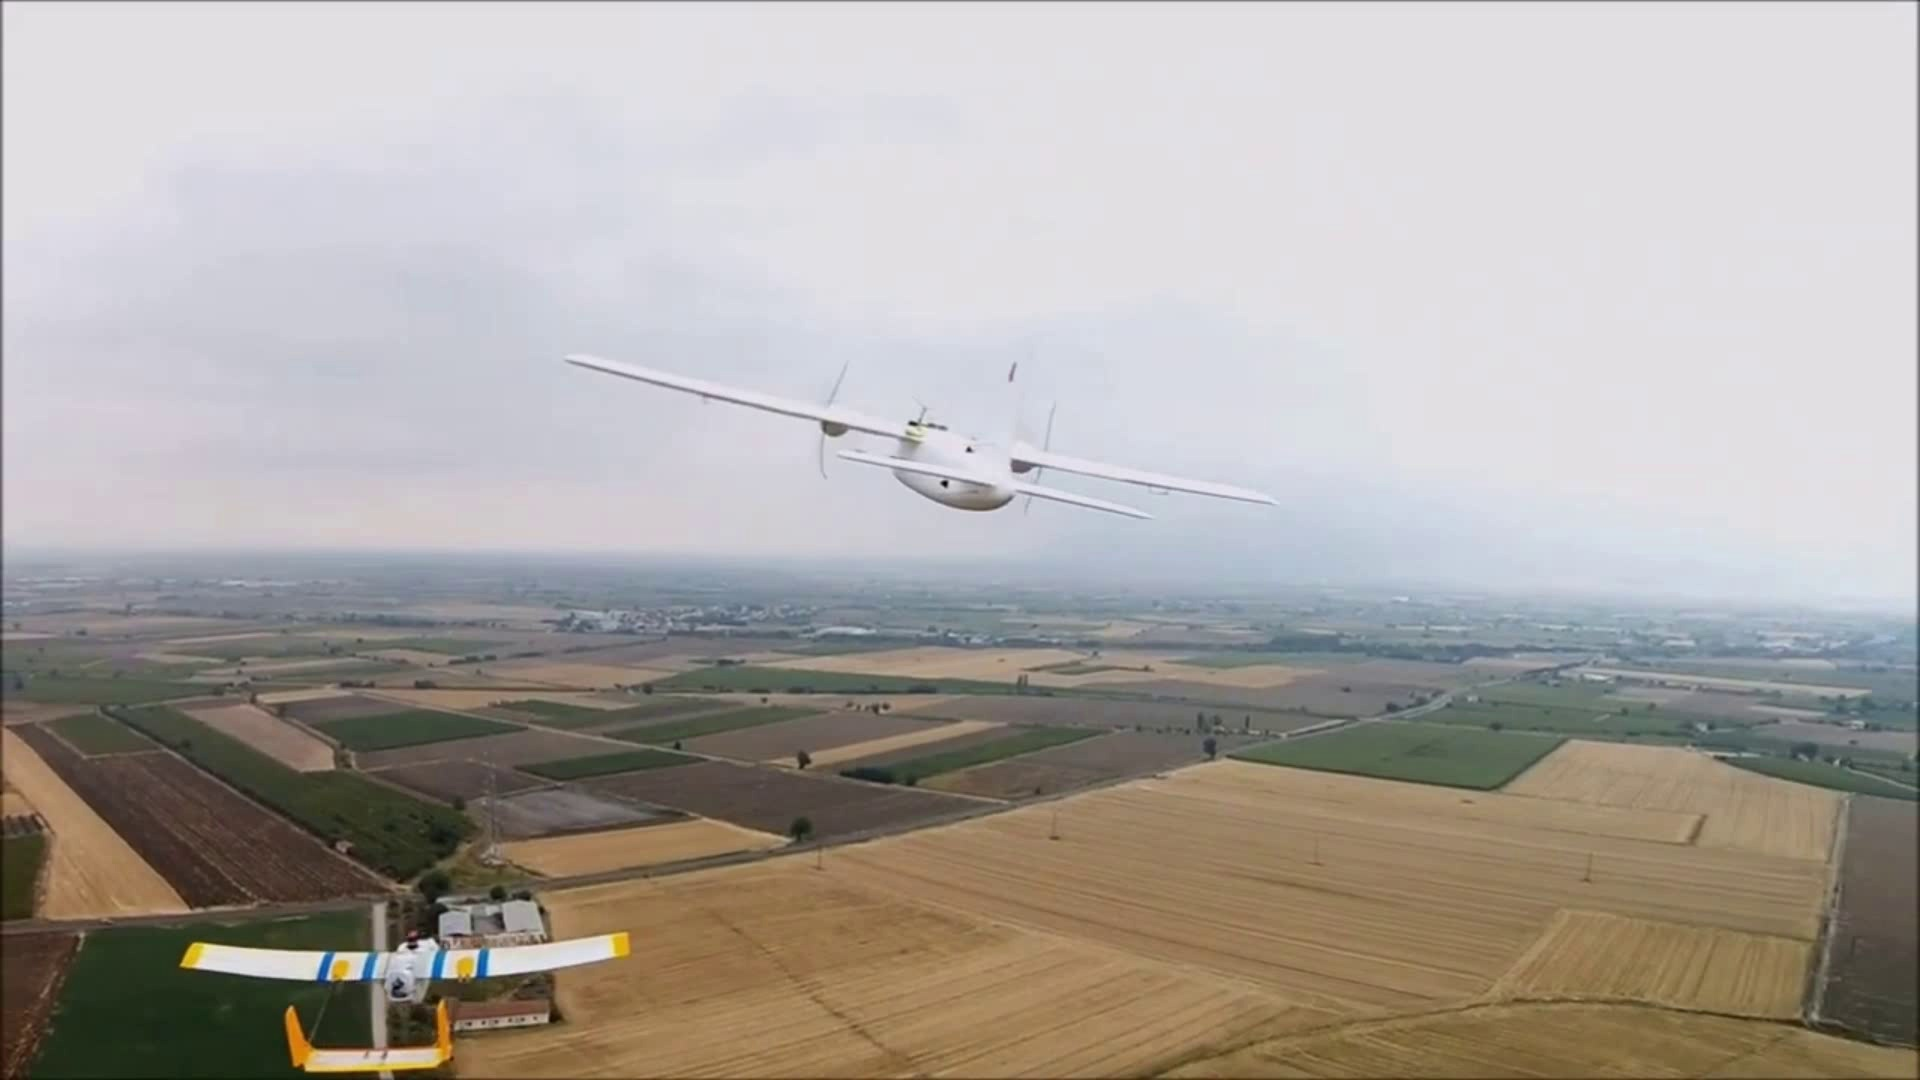airplane: (564, 345, 1279, 524)
